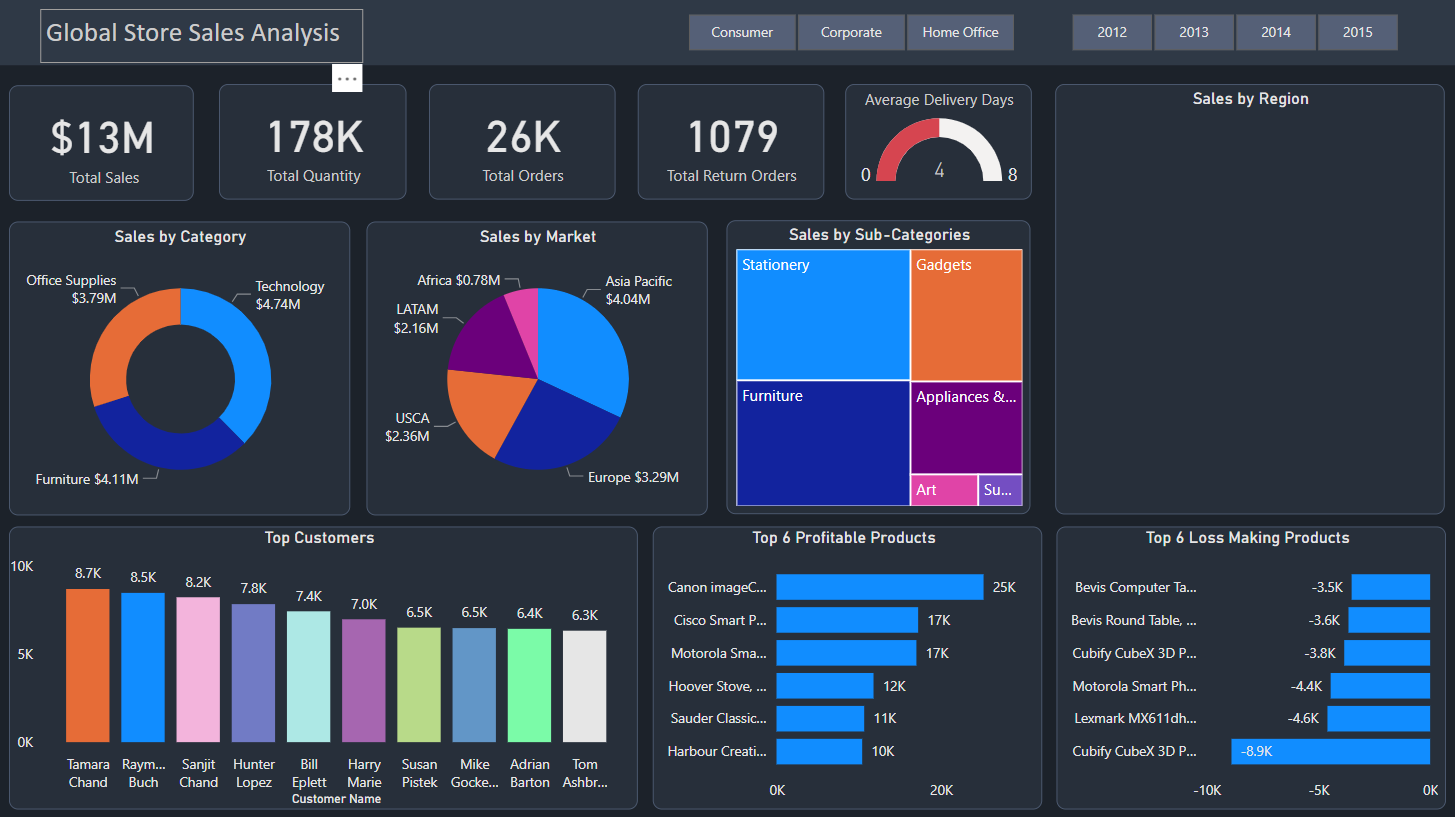

The page's visual inventory and layout, read from the dashboard file:
{"tool":"powerbi","page":{"name":"Page 1","canvas":[1280,720],"ordinal":0},"visuals":[{"type":"shape","box":[0,0,1280.4,58],"z":0},{"type":"card","fields":{"Values":["Orders.Sales"]},"box":[8.5,75.6,162.2,101.2],"z":1000},{"type":"card","fields":{"Values":["Orders.Quantity"]},"box":[193.8,75,165,101.2],"z":2000},{"type":"card","fields":{"Values":["Orders.Order ID"]},"box":[377.5,75,163.8,101.2],"z":3000},{"type":"slicer","fields":{"Values":["Orders.Year"]},"box":[917.3,6.7,336,45.3],"z":4000},{"type":"card","fields":{"Values":["Returns.Return Orders"]},"box":[561.2,75,163.8,101.2],"z":5000},{"type":"map","title":"Sales by Region","fields":{"Category":["Orders.Region"],"Size":["Orders.Sales"]},"box":[928.8,75,342.5,378.8],"z":6000},{"type":"barChart","title":"Top 6 Profitable Products","fields":{"Y":["Orders.Profit"],"Category":["Orders.Product Name"]},"box":[574.4,463.4,342.7,248.8],"z":7000},{"type":"barChart","title":"Top 6 Loss Making Products","fields":{"Y":["Orders.Profit"],"Category":["Orders.Product Name"]},"box":[929.3,463.4,342.7,248.8],"z":8000},{"type":"donutChart","title":"Sales by Category","fields":{"Y":["Orders.Sales"],"Category":["Orders.Category"]},"box":[8.5,195.1,300,258.5],"z":9000},{"type":"pieChart","title":"Sales by Market","fields":{"Category":["Orders.Market"],"Y":["Orders.Sales"]},"box":[323.2,195.1,300,258.5],"z":10000},{"type":"clusteredColumnChart","title":"Top Customers","fields":{"Y":["Orders.Profit"],"Category":["Orders.Customer Name"]},"box":[8.5,463.4,552.4,248.8],"z":11000},{"type":"slicer","fields":{"Values":["Orders.Segment"]},"box":[580,6.7,336,45.3],"z":12000},{"type":"textbox","box":[36,9.3,284,46.7],"z":13000},{"type":"gauge","fields":{"Y":["Orders.Delivery Days "]},"box":[743.8,75,163.8,101.2],"z":14000},{"type":"treemap","title":"Sales by Sub-Categories","fields":{"Values":["Orders.Sales"],"Group":["Orders.Sub-Cat Groups"]},"box":[640,195,267.5,258.8],"z":15000}]}

Visuals, with their boxes in screenshot pixels (x1, y1, x2, y2), scaled from the page's 1280x720 canvas onto the 1455x817 screenshot:
shape: left=0, top=0, right=1454, bottom=66
card - Orders.Sales: left=10, top=86, right=194, bottom=201
card - Orders.Quantity: left=220, top=85, right=408, bottom=200
card - Orders.Order ID: left=429, top=85, right=615, bottom=200
slicer - Orders.Year: left=1043, top=8, right=1425, bottom=59
card - Returns.Return Orders: left=638, top=85, right=824, bottom=200
"Sales by Region" map: left=1056, top=85, right=1445, bottom=515
"Top 6 Profitable Products" barChart: left=653, top=526, right=1042, bottom=808
"Top 6 Loss Making Products" barChart: left=1056, top=526, right=1446, bottom=808
"Sales by Category" donutChart: left=10, top=221, right=351, bottom=515
"Sales by Market" pieChart: left=367, top=221, right=708, bottom=515
"Top Customers" clusteredColumnChart: left=10, top=526, right=638, bottom=808
slicer - Orders.Segment: left=659, top=8, right=1041, bottom=59
textbox: left=41, top=11, right=364, bottom=64
gauge - Orders.Delivery Days : left=845, top=85, right=1032, bottom=200
"Sales by Sub-Categories" treemap: left=728, top=221, right=1032, bottom=515
